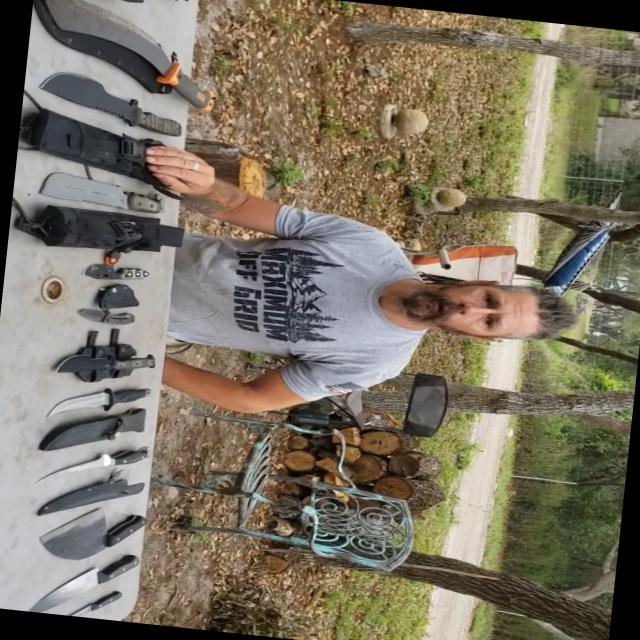knife: (21, 0, 236, 129), (17, 143, 190, 250), (19, 55, 204, 146), (15, 543, 142, 621), (40, 501, 158, 568), (37, 334, 156, 399), (24, 379, 152, 438), (22, 448, 156, 492), (71, 304, 157, 351), (72, 247, 152, 287), (56, 588, 127, 620)
